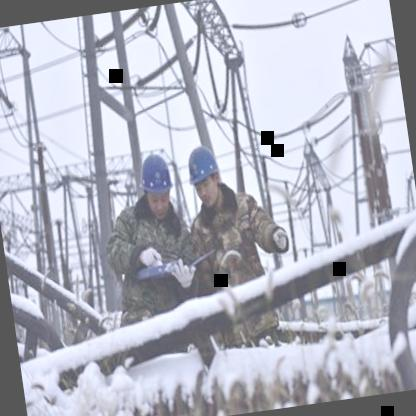helmet: (133, 146, 180, 224), (181, 137, 228, 210)
